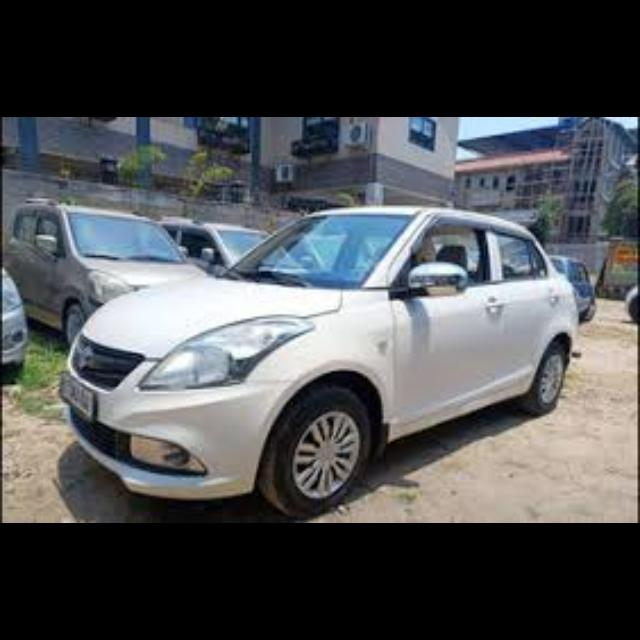number-plate: (64, 374, 98, 417)
vehicles: (64, 204, 577, 517), (159, 219, 275, 273), (3, 258, 30, 376), (552, 255, 597, 319), (626, 283, 640, 322)
